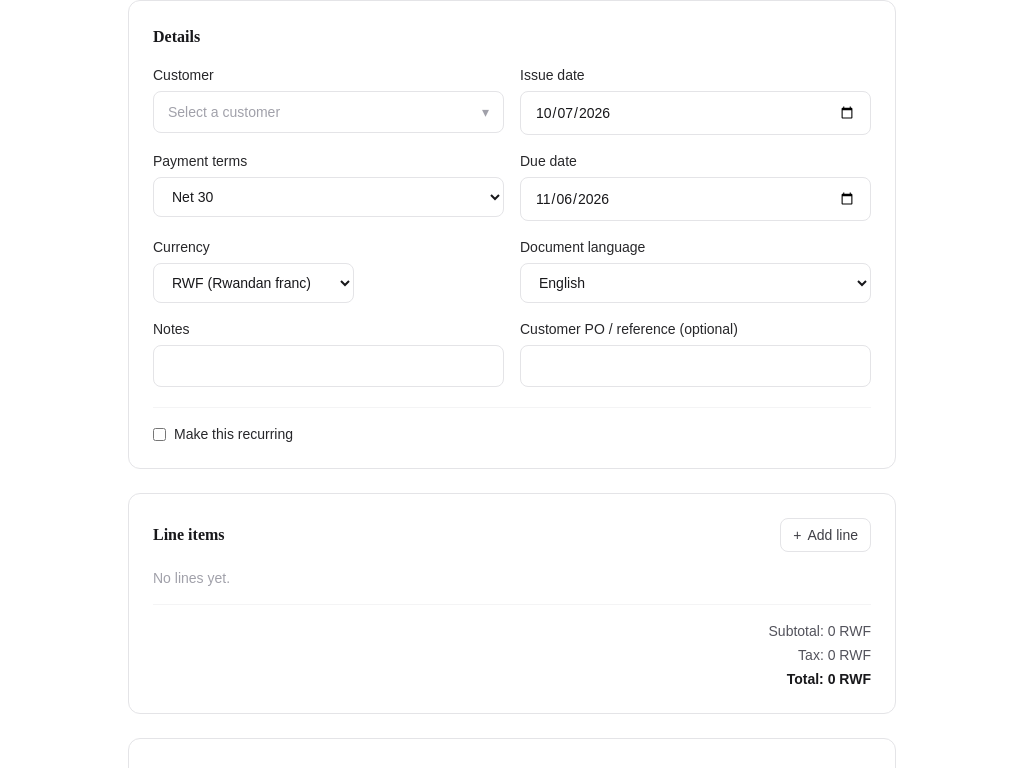
Test: DocumentForm › saves a new draft and navigates to its edit URL
The width and height of the screenshot is (1024, 768).
Step 1. Click the button "Select a customer ▾" → (224, 112), box [153,91,504,133]
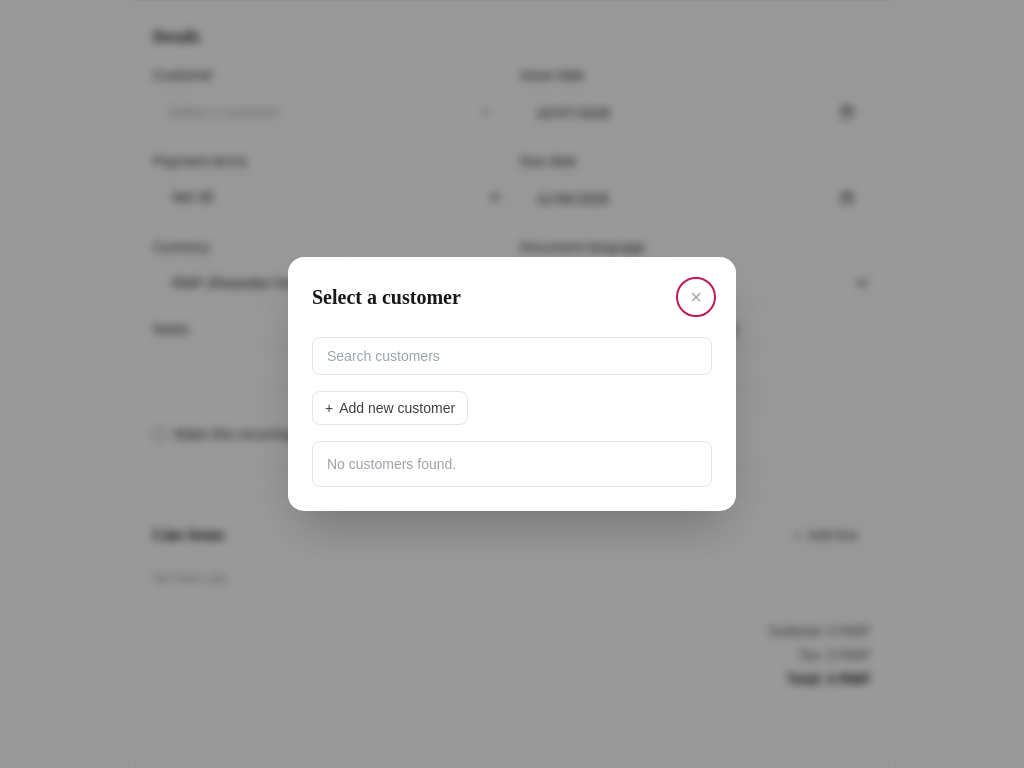
Step 2. Type "Kigali" into the field labelled "Search customers" → (512, 356), box [312,337,712,375]
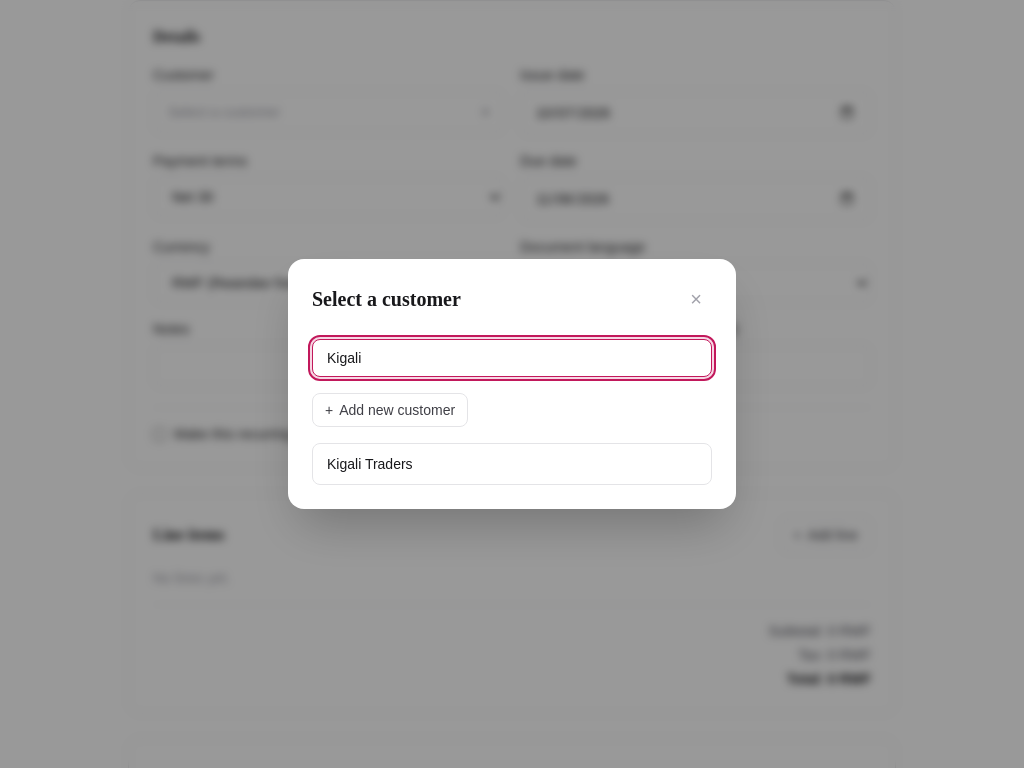
Step 3. Click the button "Kigali Traders" → (370, 464), box [313,444,711,484]
(page scrolled)
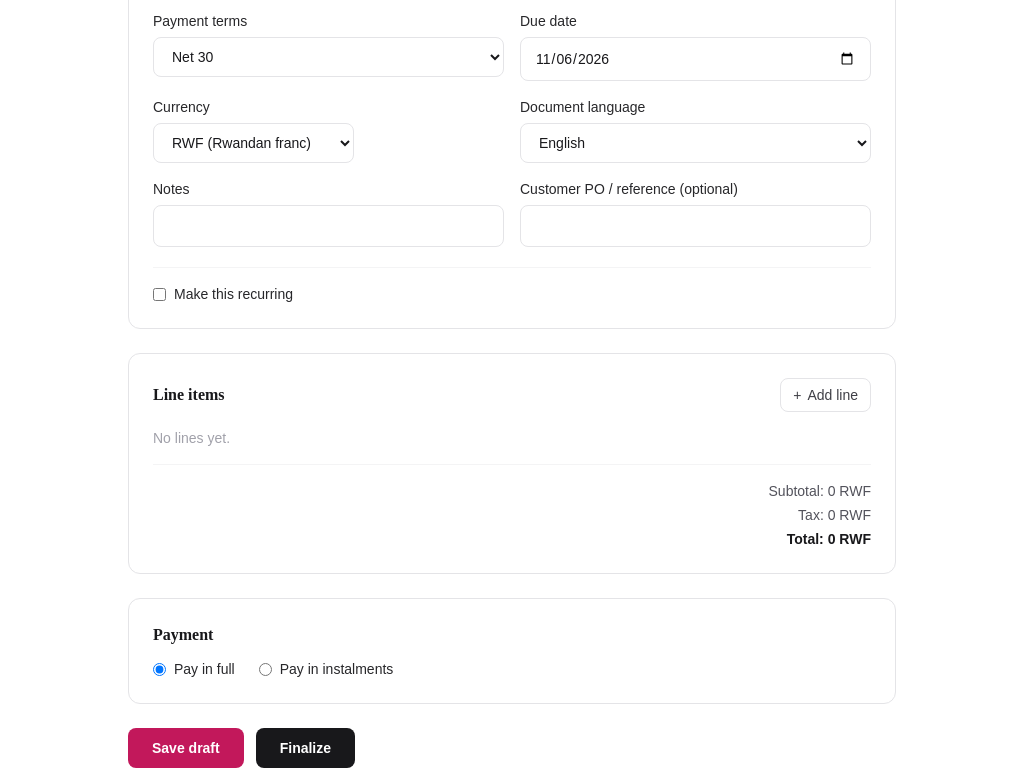
Step 4. Click the button "Save draft" → (186, 748), box [128,728,244,767]
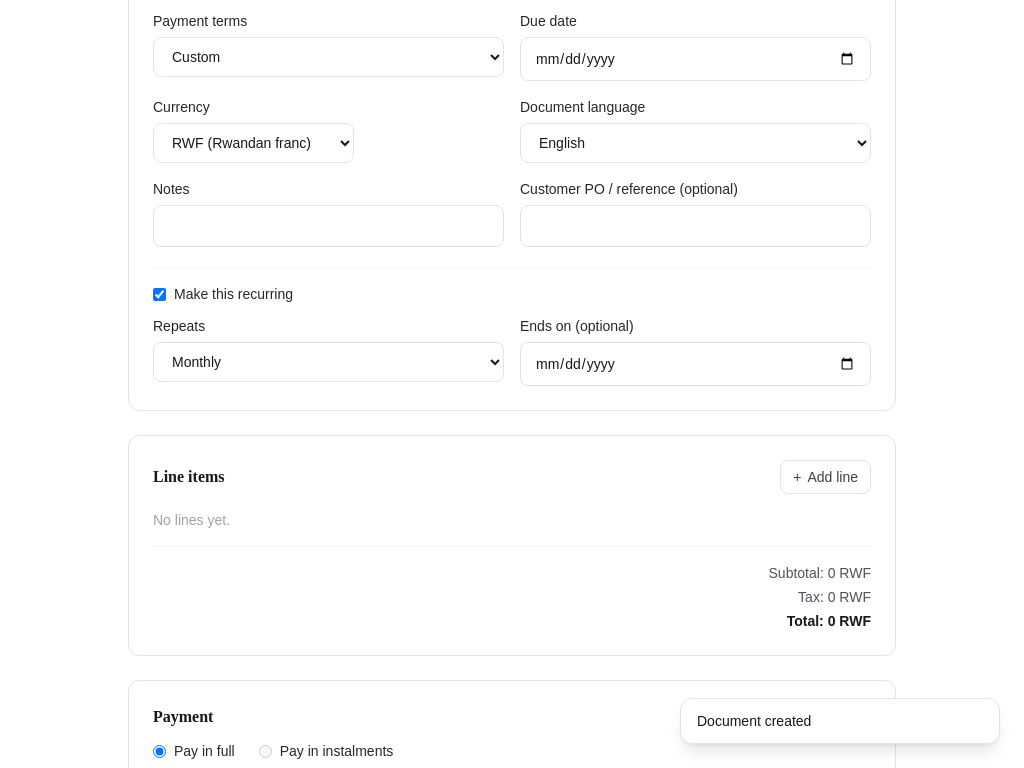
Check: the text "Document created" is shown, box [697,713,811,729]
